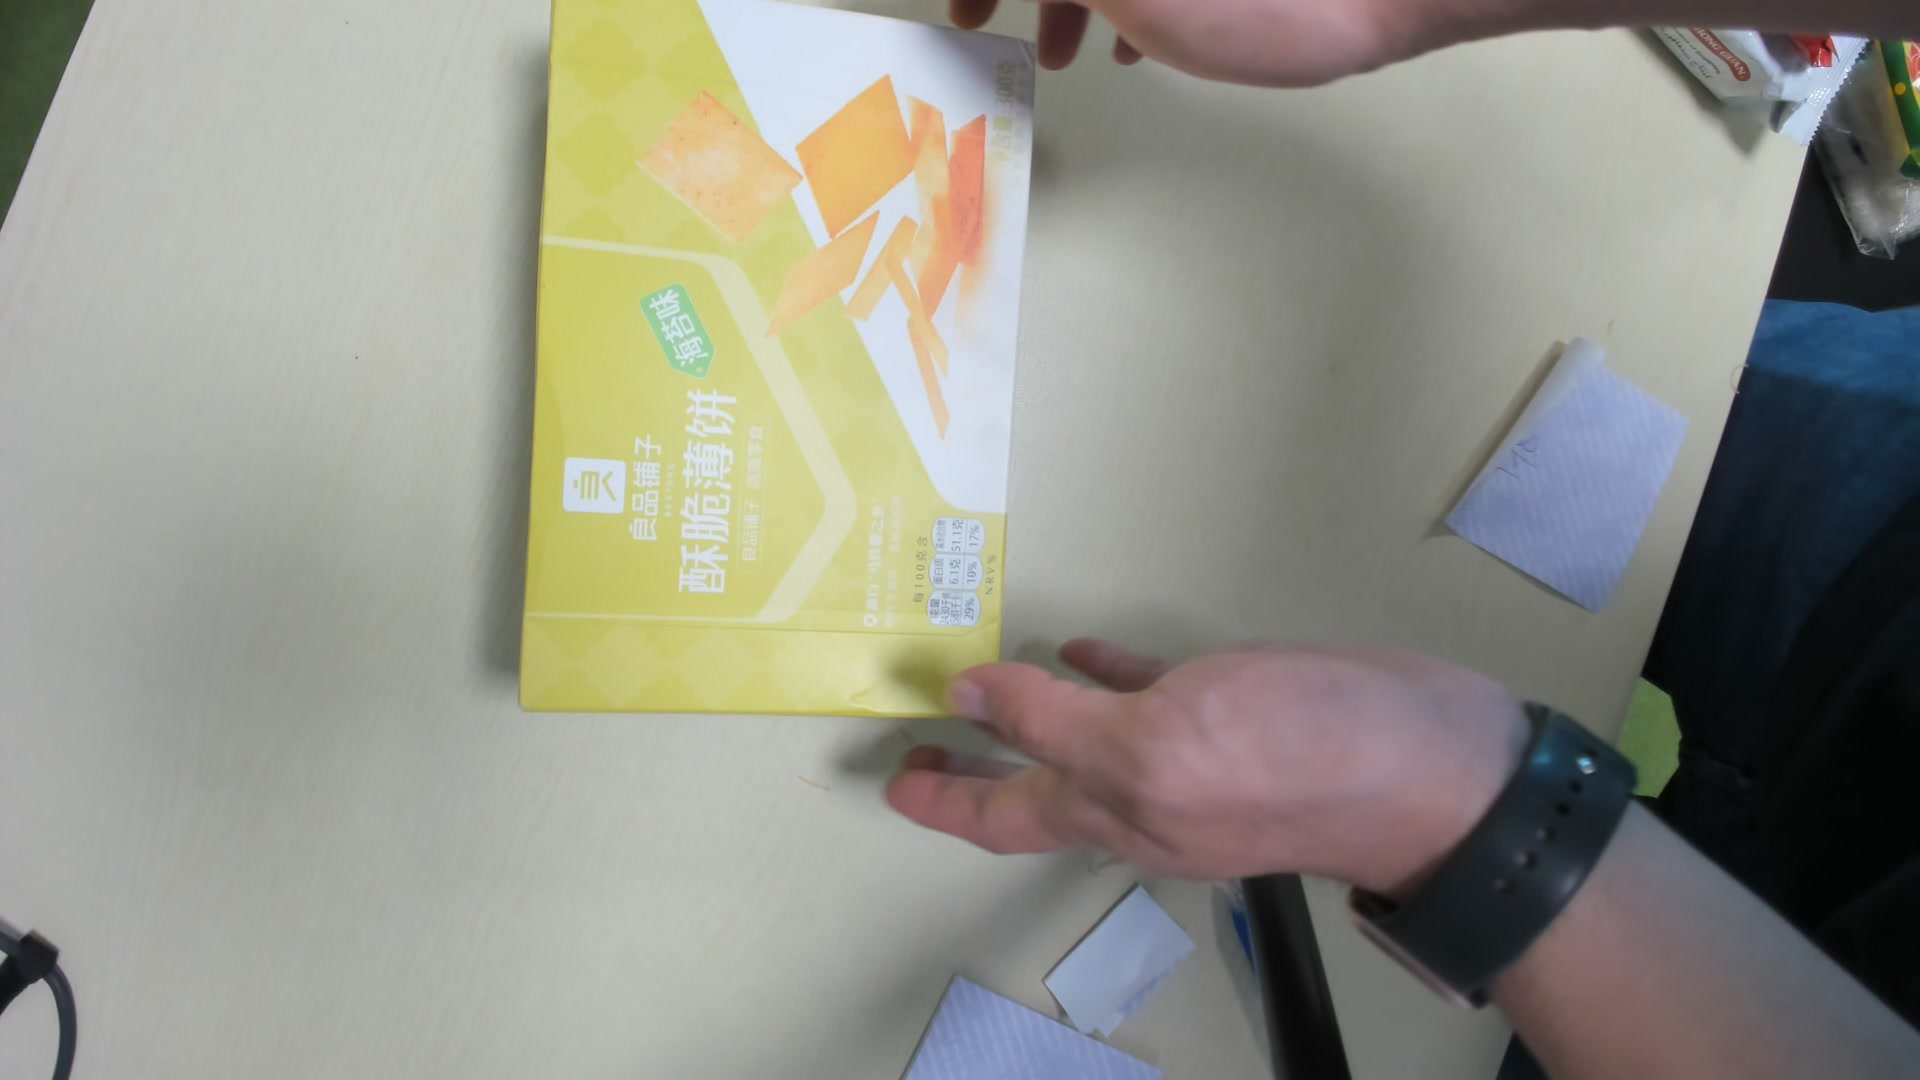BiscuitsCrackersCookies_300-399g_Halal_NonHealthy: (514, 5, 1047, 729)
